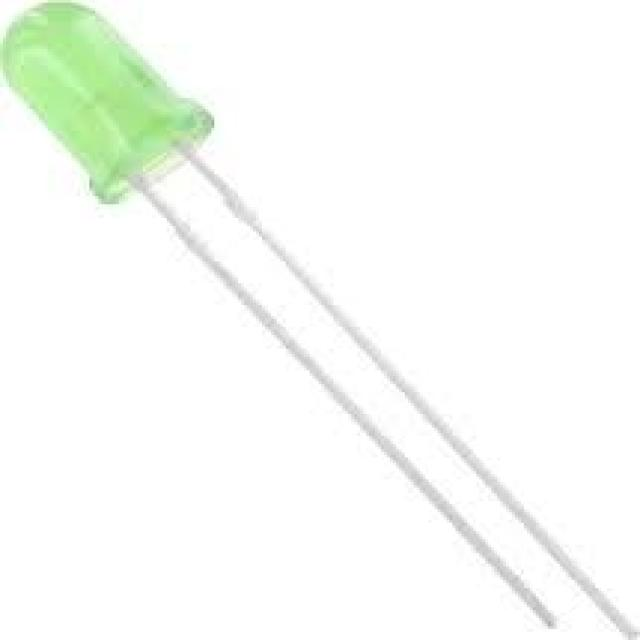Led: (3, 3, 519, 581)
